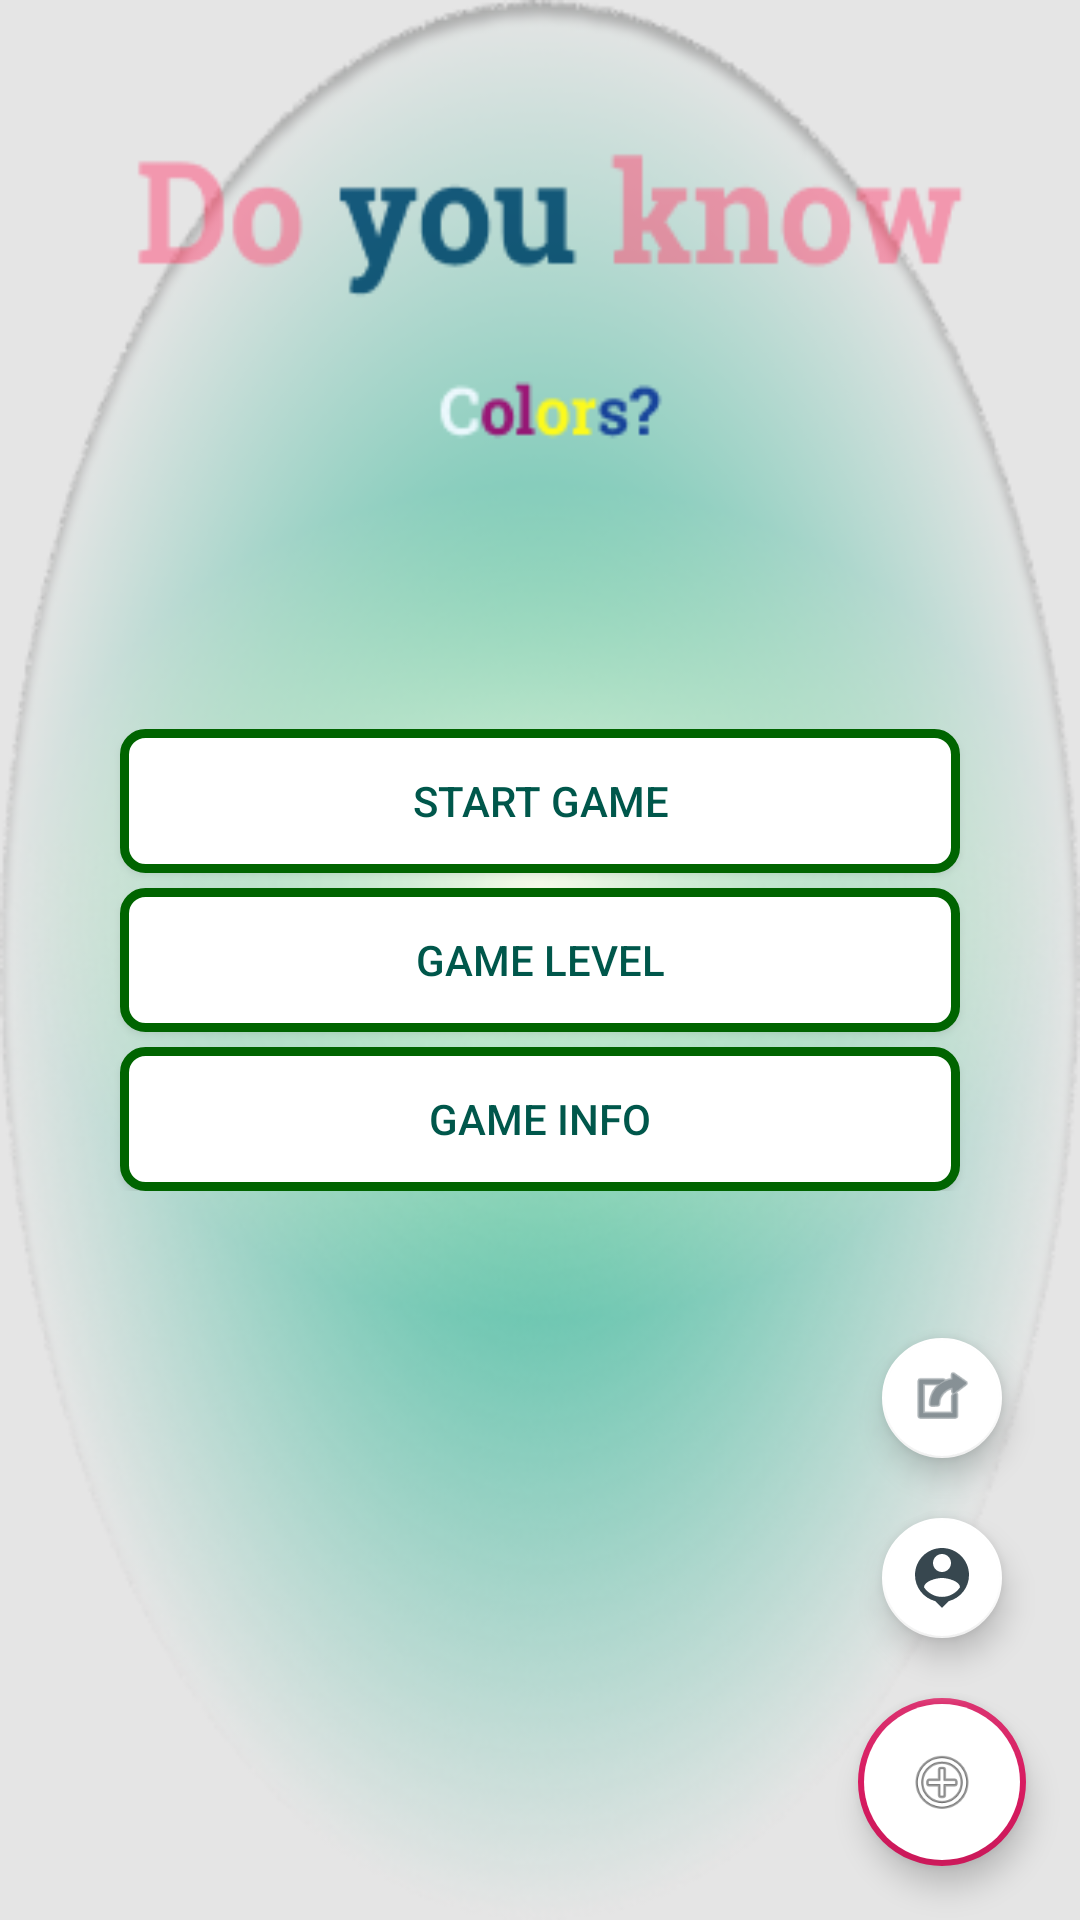

Icon click points for this 1080px x 1920px phone screenshot, format point (x, y):
add: point (942, 1782)
person pin: point (942, 1578)
set as: point (942, 1398)
